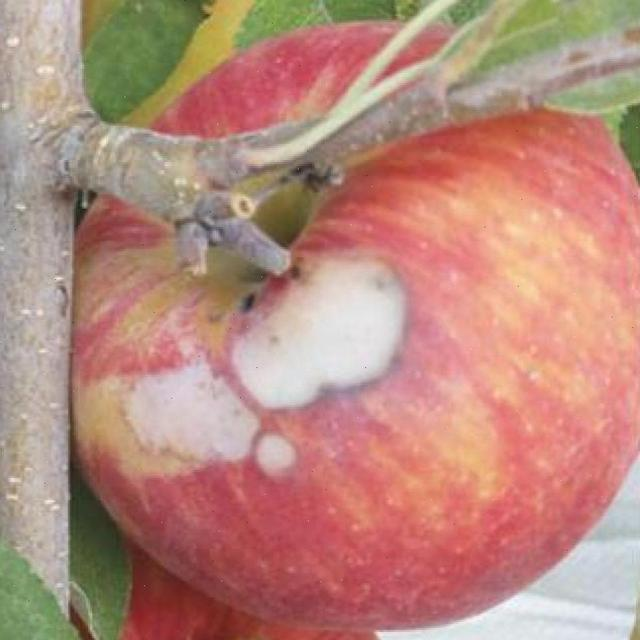Sunscald Fruit: (85, 153, 288, 338)
